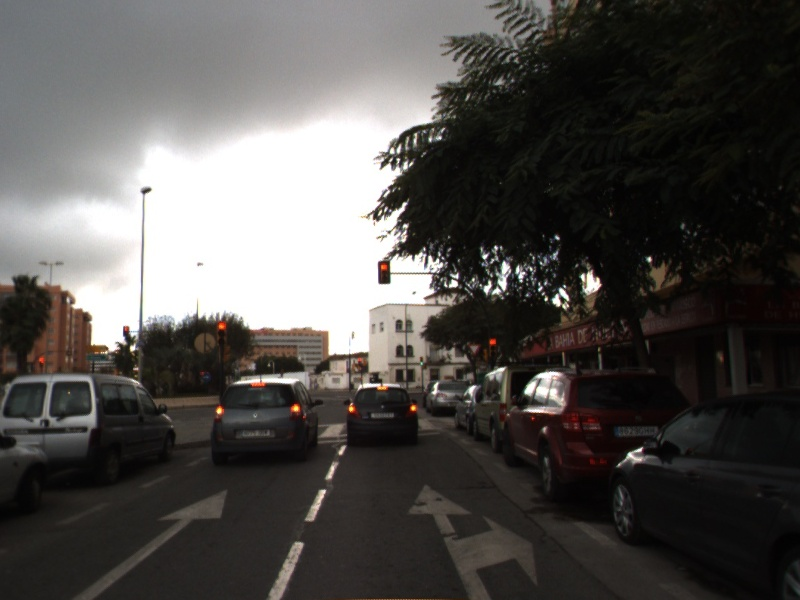STRAIGHT: (72, 487, 229, 600)
STRAIGHT_RIGHT: (405, 482, 539, 600)
